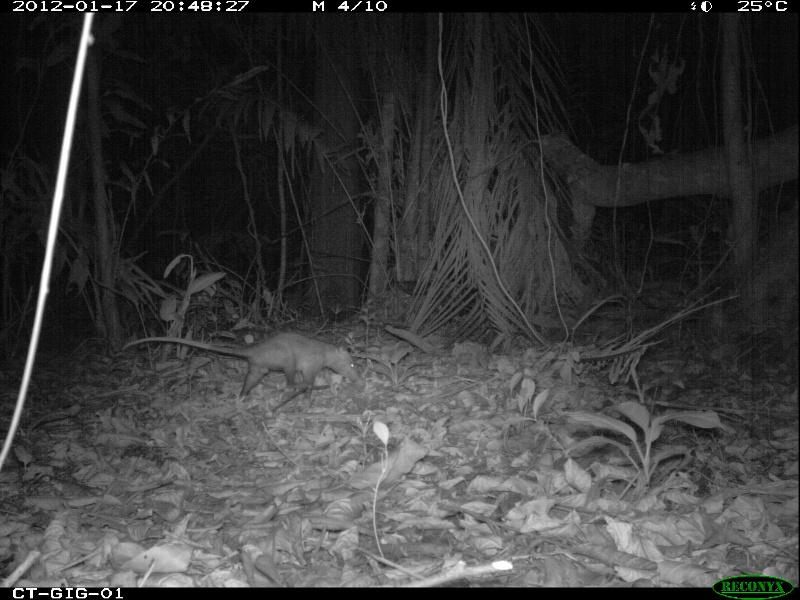opossum: (122, 320, 364, 387)
